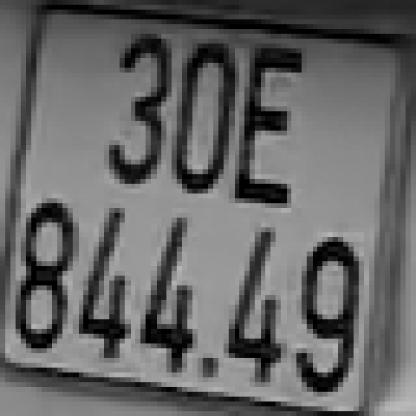3: (109, 34, 172, 184)
4: (218, 222, 281, 378), (140, 212, 203, 367), (73, 208, 130, 353)
8: (10, 198, 78, 349)
9: (291, 232, 359, 387)
E: (229, 48, 296, 204)
